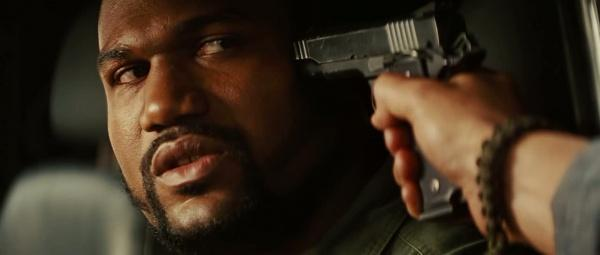Gun: (290, 0, 486, 224)
